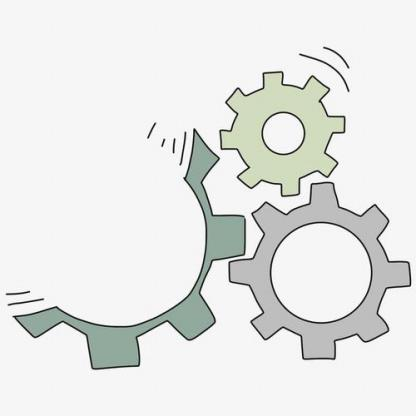FOD: (226, 176, 415, 364), (216, 69, 348, 198)
